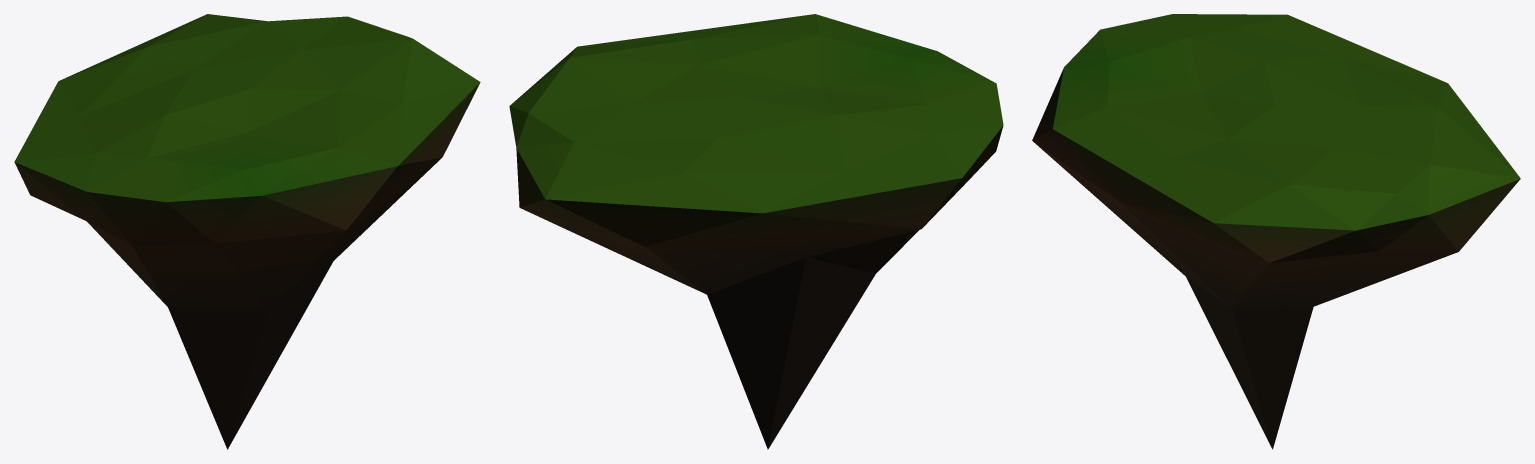
The model's file is mid_medium_island.fbx.
The picture shows the model from 3 angles, left to right: view 1: azimuth 30°, elevation 25°; view 2: azimuth 150°, elevation 25°; view 3: azimuth 270°, elevation 25°; orthographic projection. The views are drawn at different scales.
Visible parts, largest first — view 1: mid_medium_island; view 2: mid_medium_island; view 3: mid_medium_island.
Part boxes in pixels (x1,y1,x2,y2): mid_medium_island: (14, 14, 480, 449); mid_medium_island: (509, 14, 1003, 449); mid_medium_island: (1032, 14, 1520, 449).
Size of the model in its own units: 5.29 by 4.08 by 5.02.
